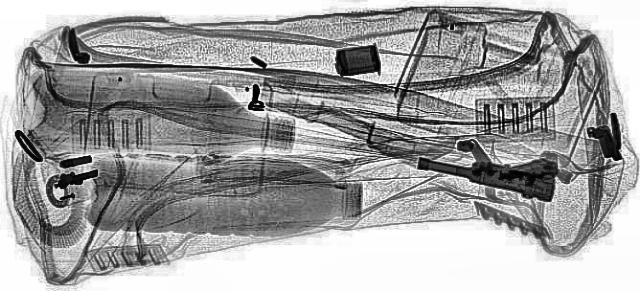Gun: (402, 148, 566, 200)
